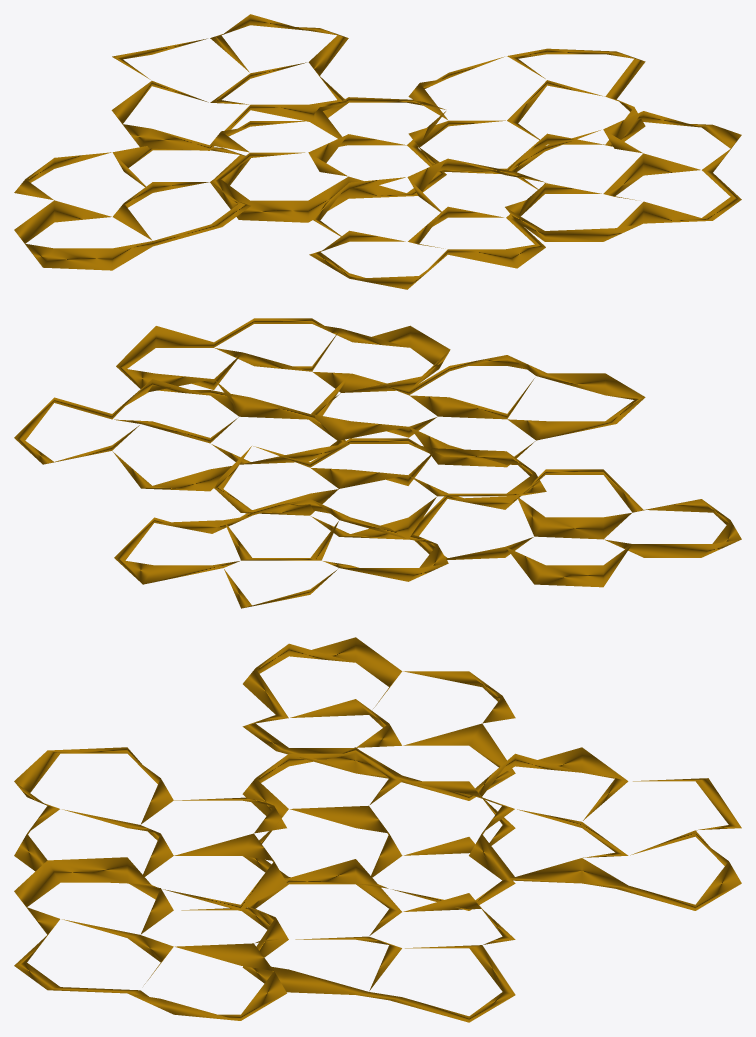
Rendered from honey-comb-hat-my-guy_atnjipGFNO_lod2.glb.
3 views of the same model, one above another, from view 1: azimuth 30°, elevation 25°; view 2: azimuth 150°, elevation 25°; view 3: azimuth 270°, elevation 25° (orthographic). The views are drawn at different scales.
Parts seen in each view (by area): view 1: HoneyComb.005; view 2: HoneyComb.005; view 3: HoneyComb.005.
Boxes of the visible parts, x1,y1,x2,y2 form: HoneyComb.005: (14,14,741,289); HoneyComb.005: (14,318,741,608); HoneyComb.005: (14,637,741,1022).
Size of the model in its own units: 5.73 by 0.14 by 4.82.
